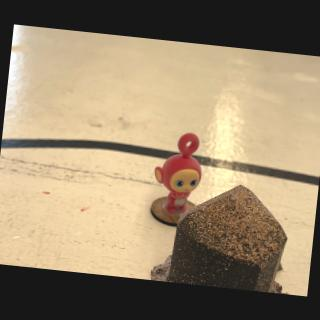teletubby: (154, 133, 201, 214)
